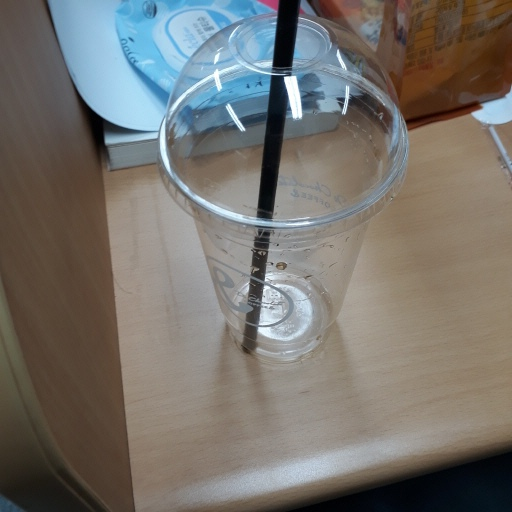Plastic_2: (159, 10, 412, 365)
